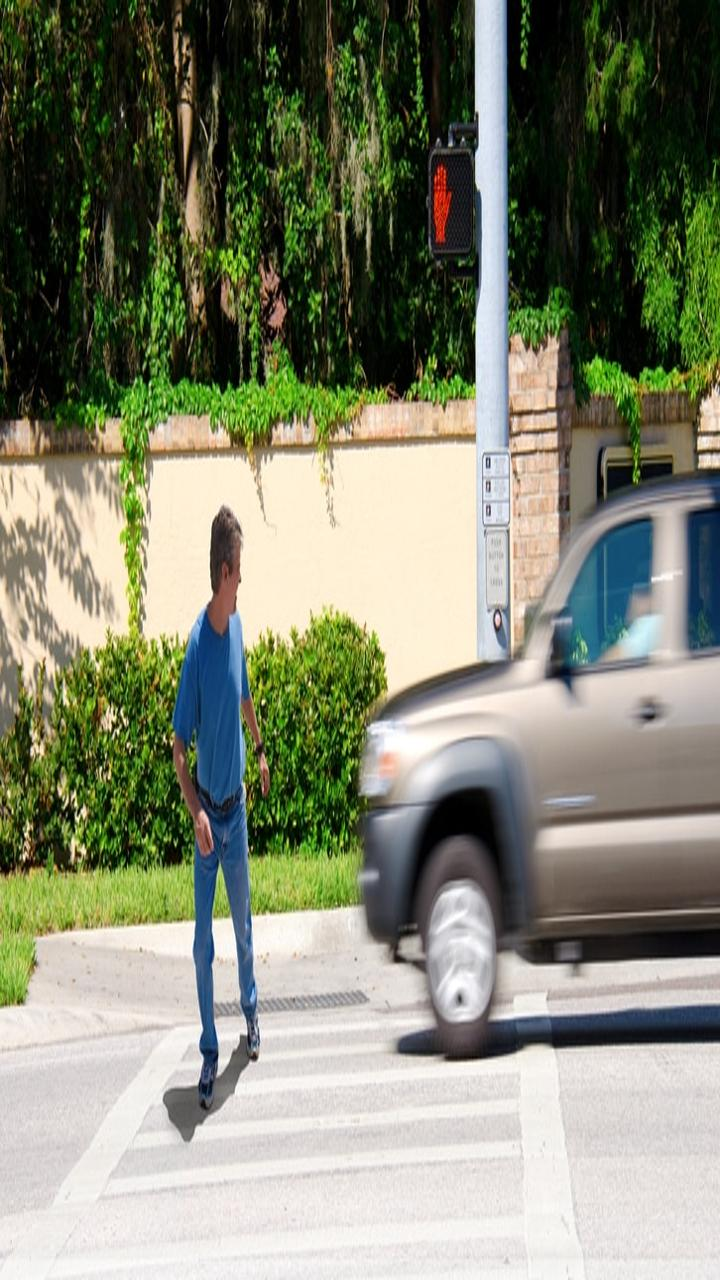Traffic sign: (402, 132, 512, 283)
pedestrian: (126, 509, 291, 1111)
vehicle: (366, 460, 720, 1061)
